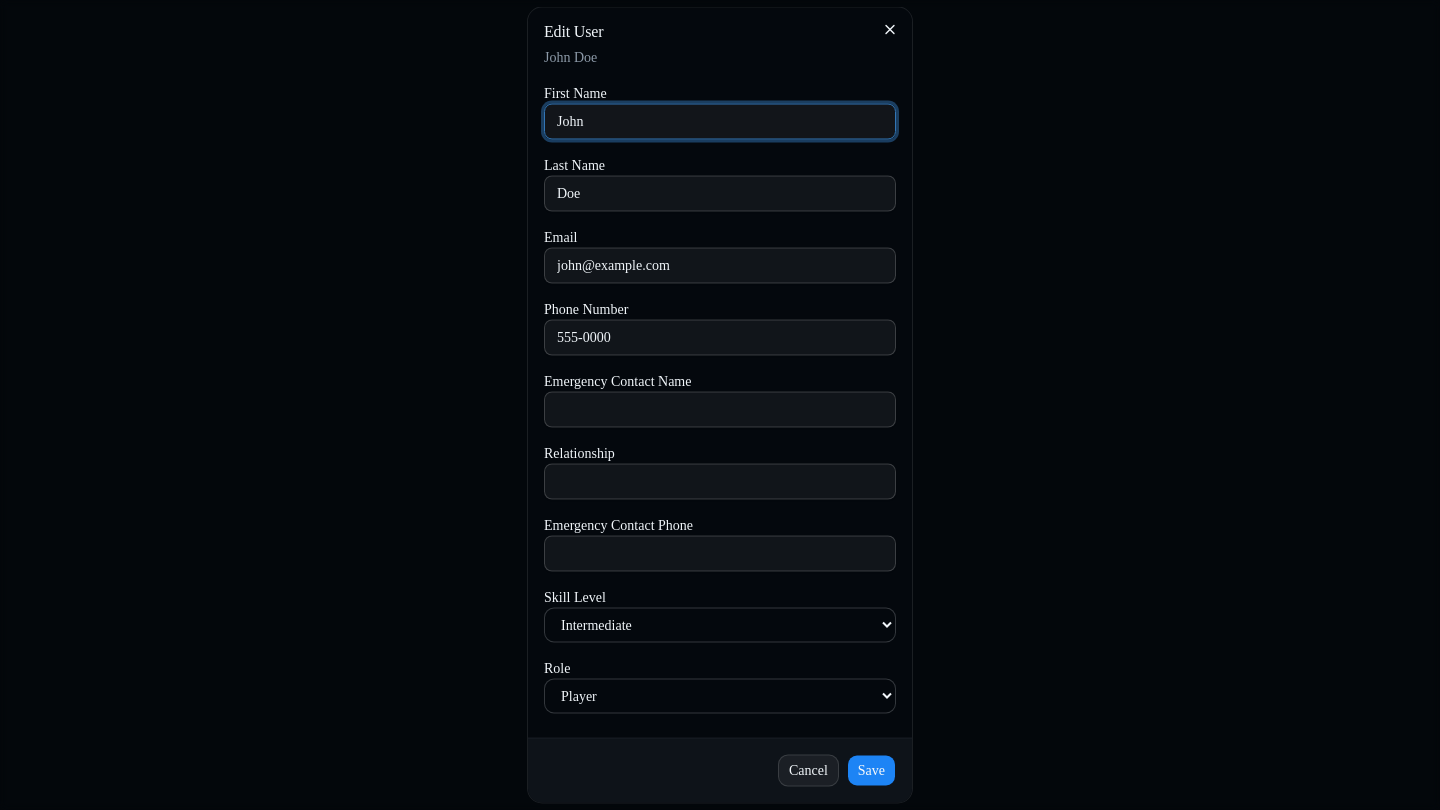
EditUserModal › disables save button while submitting
Click the button "Save" at (871, 770), box [847, 754, 896, 786]
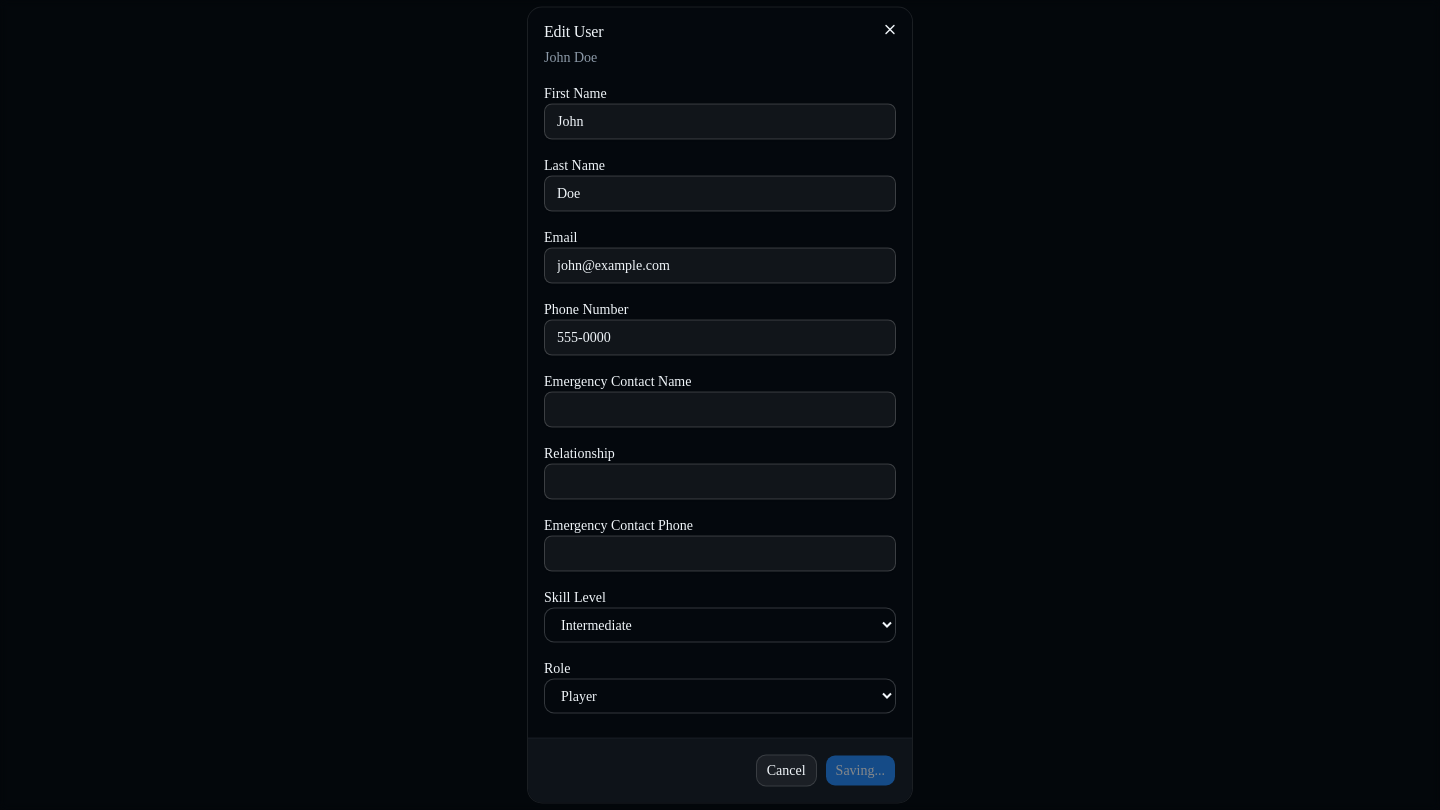
expect the button named "Save" is disabled: met, box [825, 754, 896, 786]
